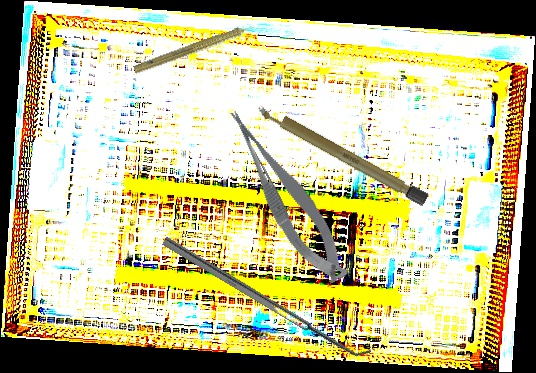Handpiece: (132, 17, 265, 80)
Micro Scissor: (222, 96, 353, 294)
Scalpel Handle: (253, 99, 431, 208)
Spatula Surgical: (162, 229, 372, 365)
